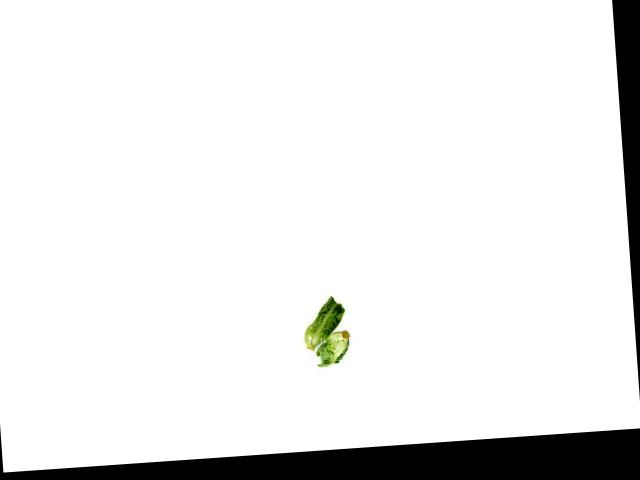lettuce: (313, 327, 357, 369)
